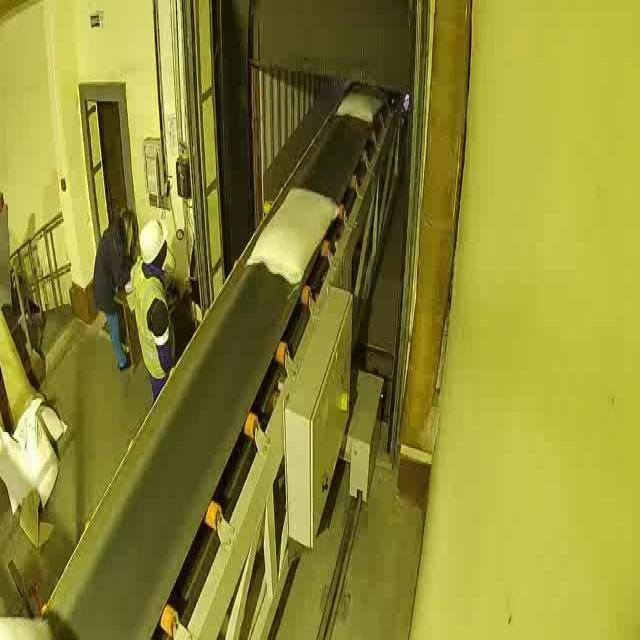bag: (244, 181, 340, 288), (335, 91, 386, 122)
